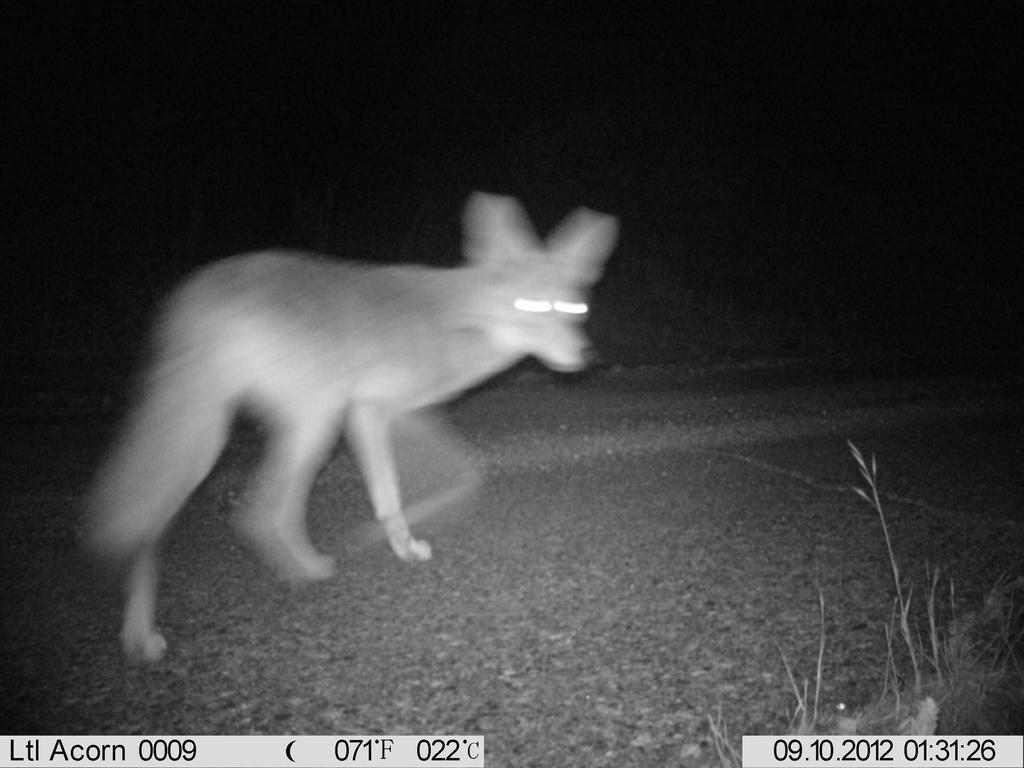coyote: (87, 185, 617, 666)
